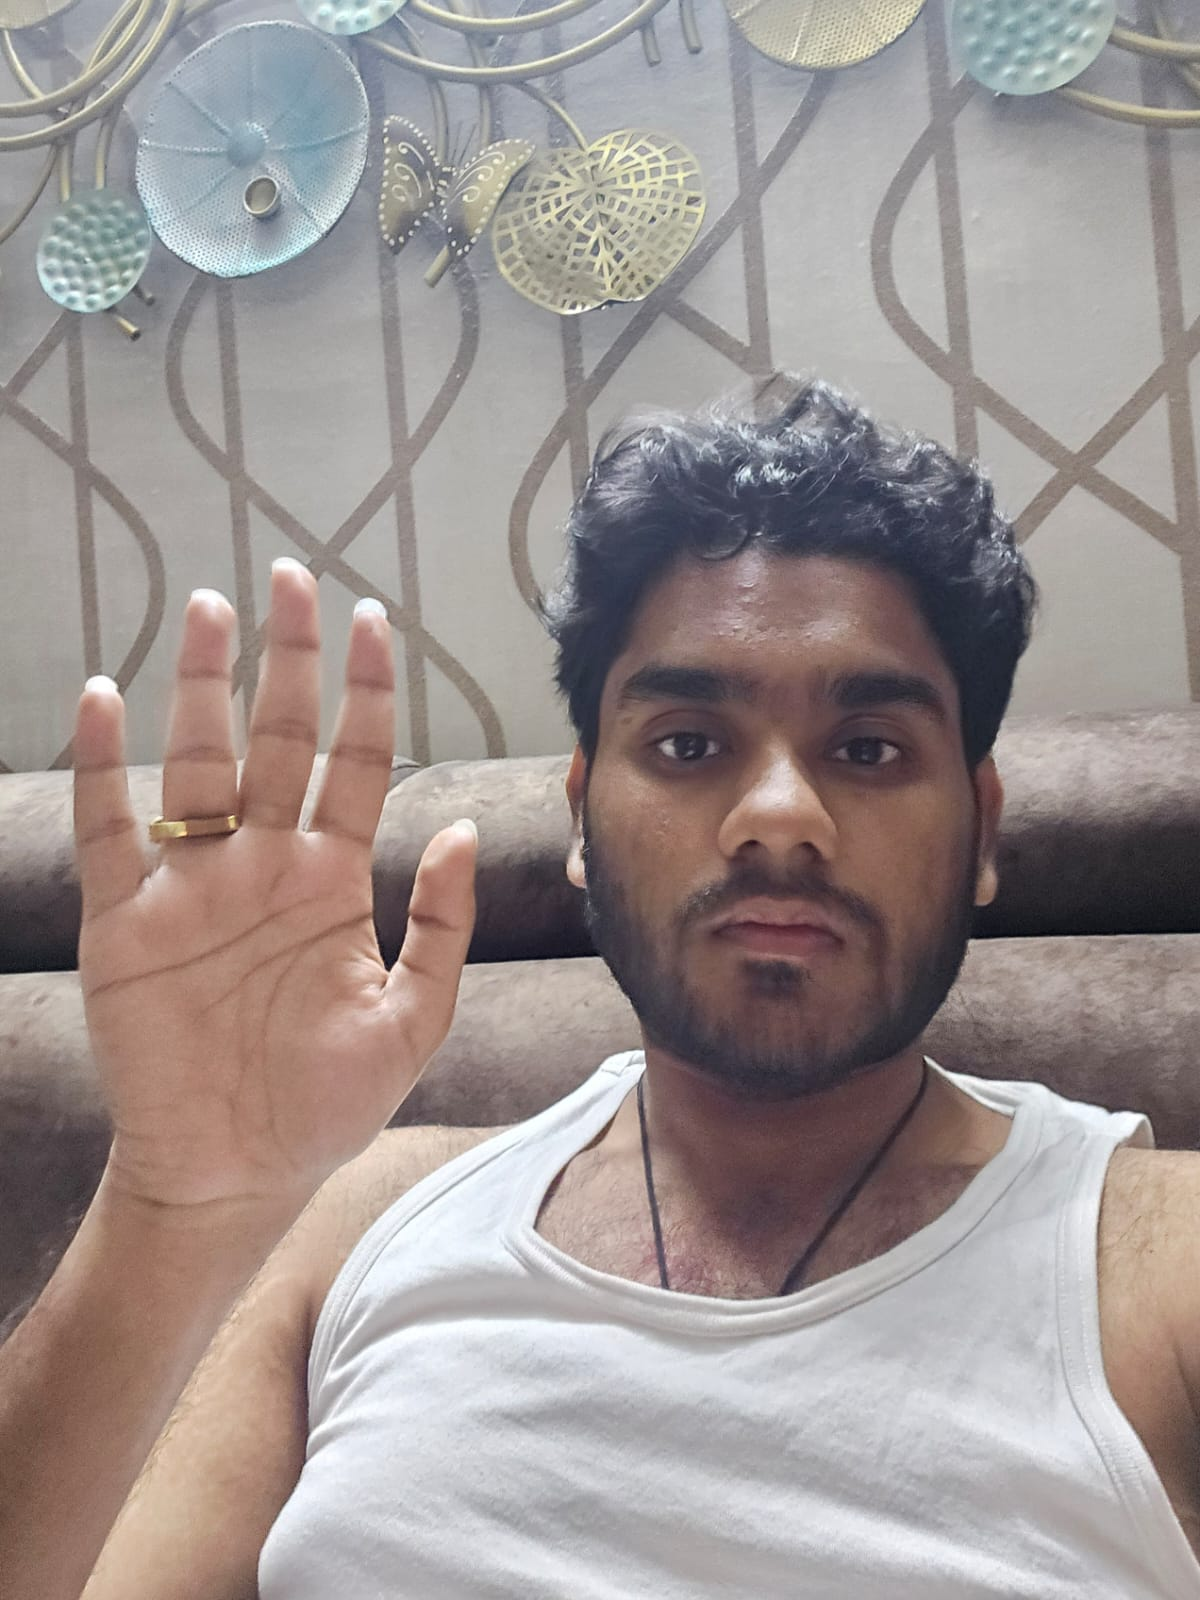hello: (71, 556, 475, 1220)
